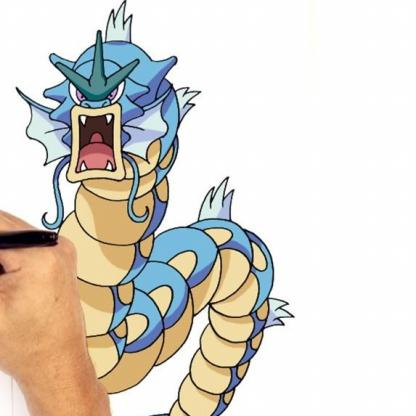Gyarados: (27, 1, 293, 416)
